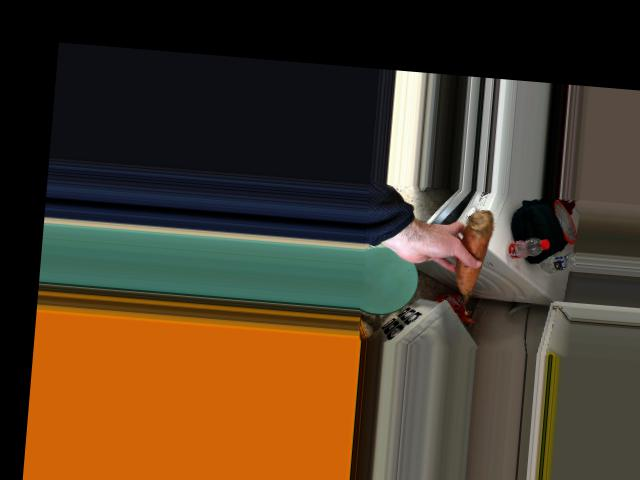sweet_potato: (456, 207, 487, 300)
